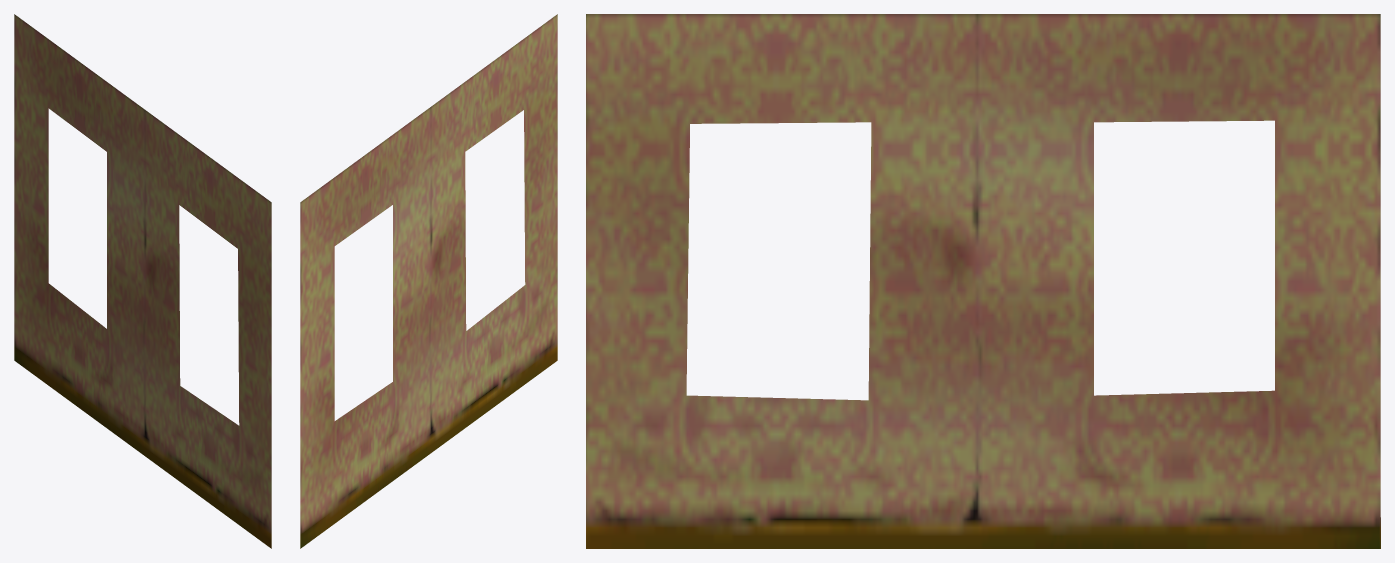
Rendered from W_AI2l_ff [RosaPlastik]_2333.glb.
3 renders of one model, left to right at view 1: azimuth 30°, elevation 25°; view 2: azimuth 150°, elevation 25°; view 3: azimuth 270°, elevation 25°, orthographic. The views are drawn at different scales.
Visible parts, largest first — view 1: pPlaneShape2; view 2: pPlaneShape2; view 3: pPlaneShape2.
Boxes of the visible parts, x1,y1,x2,y2 form: pPlaneShape2: [14, 14, 271, 548]; pPlaneShape2: [300, 14, 557, 548]; pPlaneShape2: [586, 14, 1380, 548].
Bounding box in the file's own units: 1.58e-07 × 0.3486 × 0.4693.
1 material, 1 textured.
